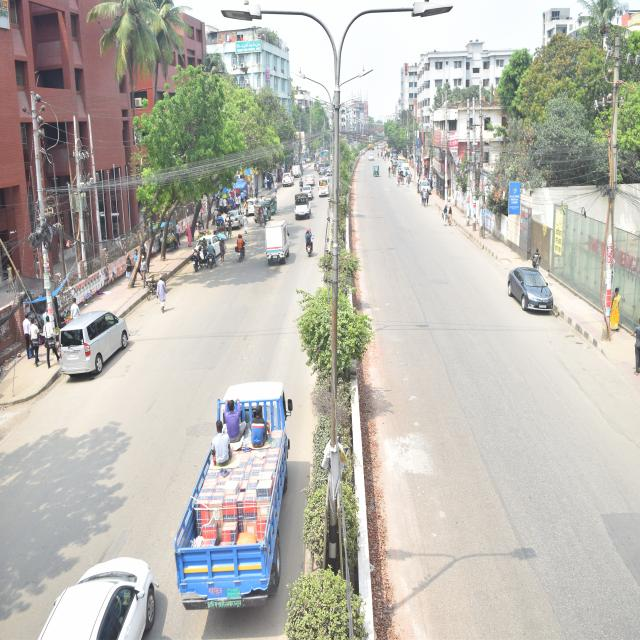bus: (316, 145, 333, 169)
car: (0, 483, 179, 640), (35, 288, 164, 391), (494, 239, 564, 360), (197, 226, 231, 275), (237, 174, 261, 229), (288, 175, 316, 203), (226, 202, 248, 236), (276, 166, 296, 196), (401, 158, 418, 190), (368, 148, 377, 168), (306, 172, 318, 186)
microbus: (310, 170, 338, 208)
motorbike: (230, 220, 253, 286), (296, 211, 320, 272), (196, 223, 216, 273), (293, 160, 305, 195), (194, 233, 201, 280)
pickup-van: (253, 210, 300, 281), (294, 188, 317, 234)
truck: (169, 363, 309, 640)
